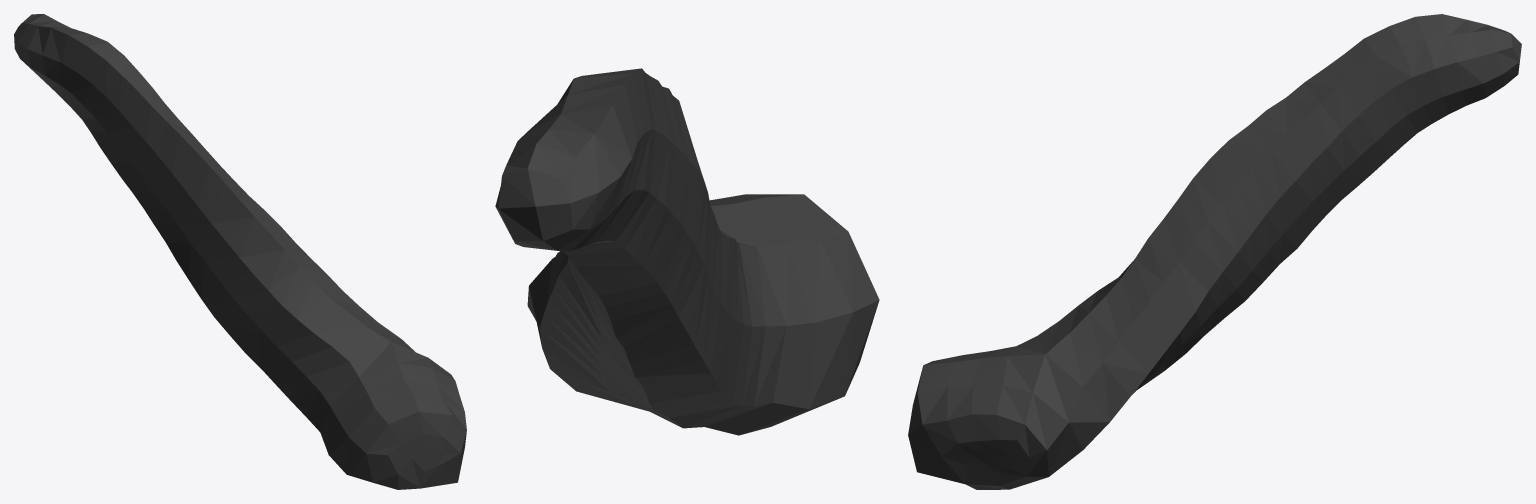
File: R_thyroihyoid.glb
3 renders of one model, left to right at view 1: azimuth 30°, elevation 25°; view 2: azimuth 150°, elevation 25°; view 3: azimuth 270°, elevation 25°, orthographic. The views are drawn at different scales.
Parts seen in each view (by area): view 1: R_thyroihyoid; view 2: R_thyroihyoid; view 3: R_thyroihyoid.
Boxes of the visible parts, x1,y1,x2,y2 form: R_thyroihyoid: [14, 14, 466, 489]; R_thyroihyoid: [495, 68, 879, 435]; R_thyroihyoid: [908, 14, 1521, 489].
Size of the model in its own units: 0.2432 by 0.3381 by 0.4958.
1 material, 1 textured.
